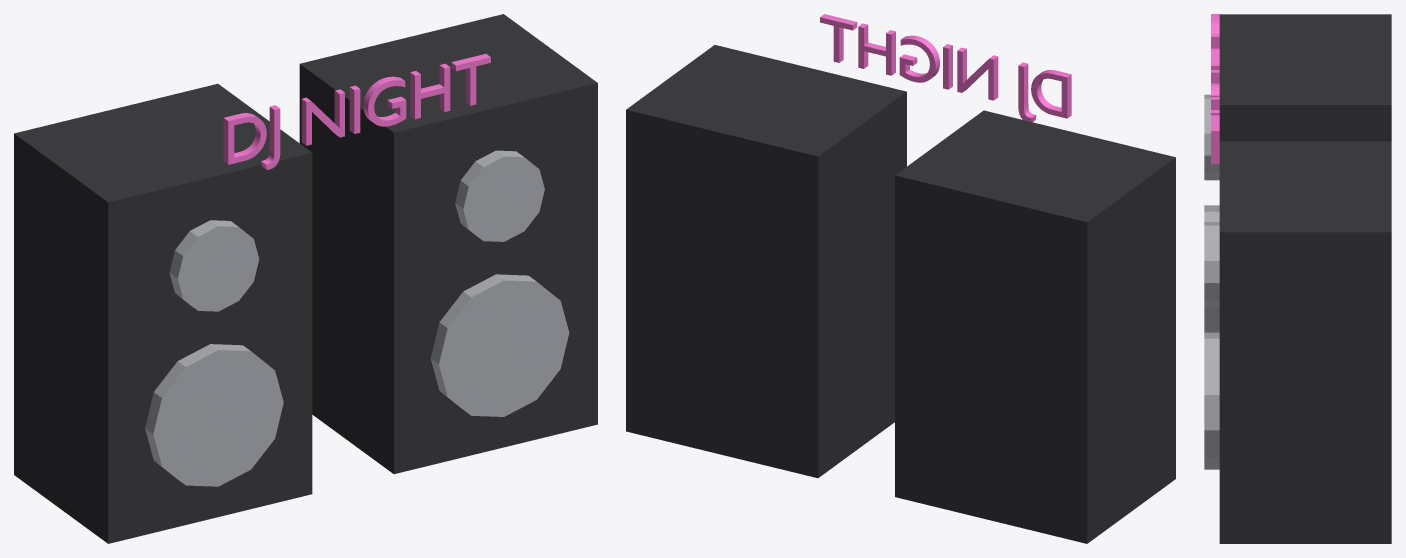
The model's file is EN_PartySpeaker.glb.
3 renders of one model, left to right at view 1: azimuth 30°, elevation 25°; view 2: azimuth 150°, elevation 25°; view 3: azimuth 270°, elevation 25°, orthographic. The views are drawn at different scales.
Visible parts, largest first — view 1: EN_PartySpeaker; view 2: EN_PartySpeaker; view 3: EN_PartySpeaker.
Boxes of the visible parts, bbox=[...] form: EN_PartySpeaker: bbox=[14, 14, 597, 543]; EN_PartySpeaker: bbox=[626, 14, 1175, 543]; EN_PartySpeaker: bbox=[1204, 14, 1391, 543].
Size of the model in its own units: 2.4 by 1.87 by 0.87.
